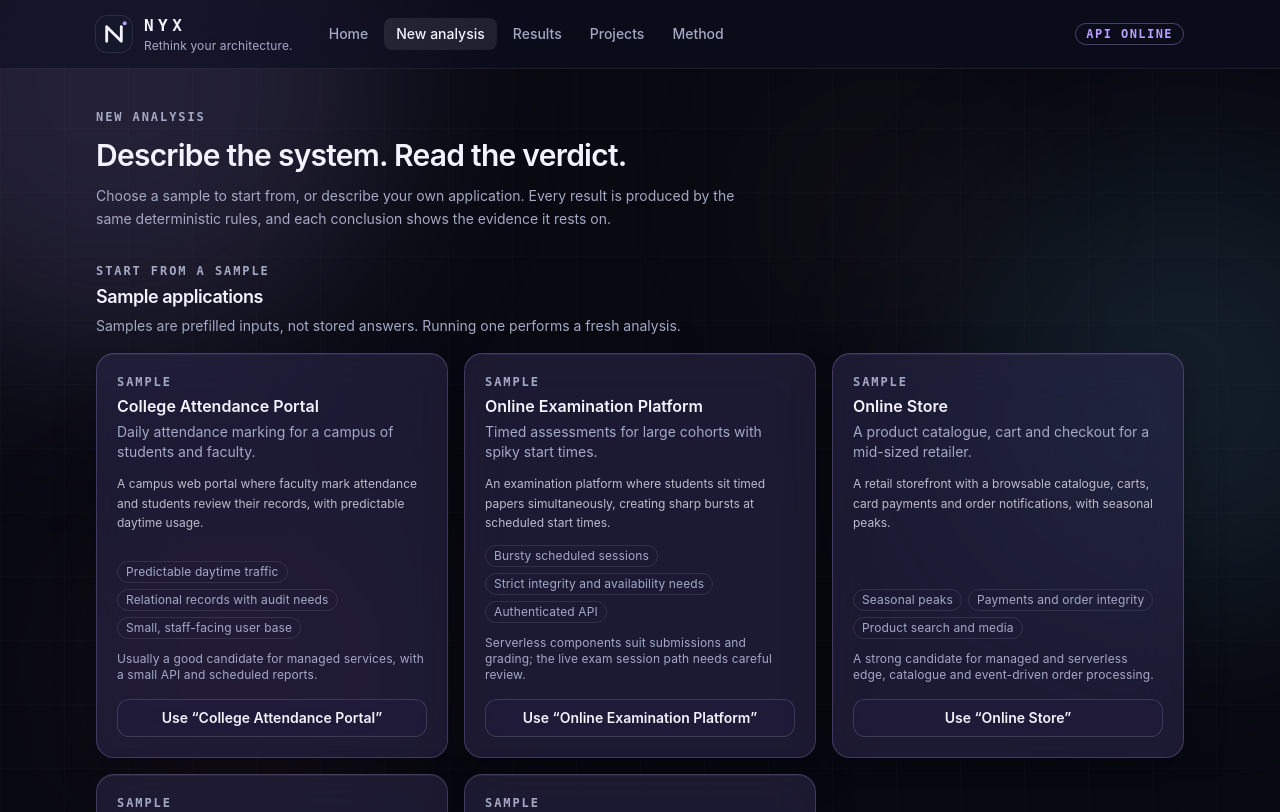
it: results › saves the analysis as a project and says so
Click the button "Use “Online Examination Platform”" at (640, 718), box [485, 699, 795, 737]
(page scrolled)
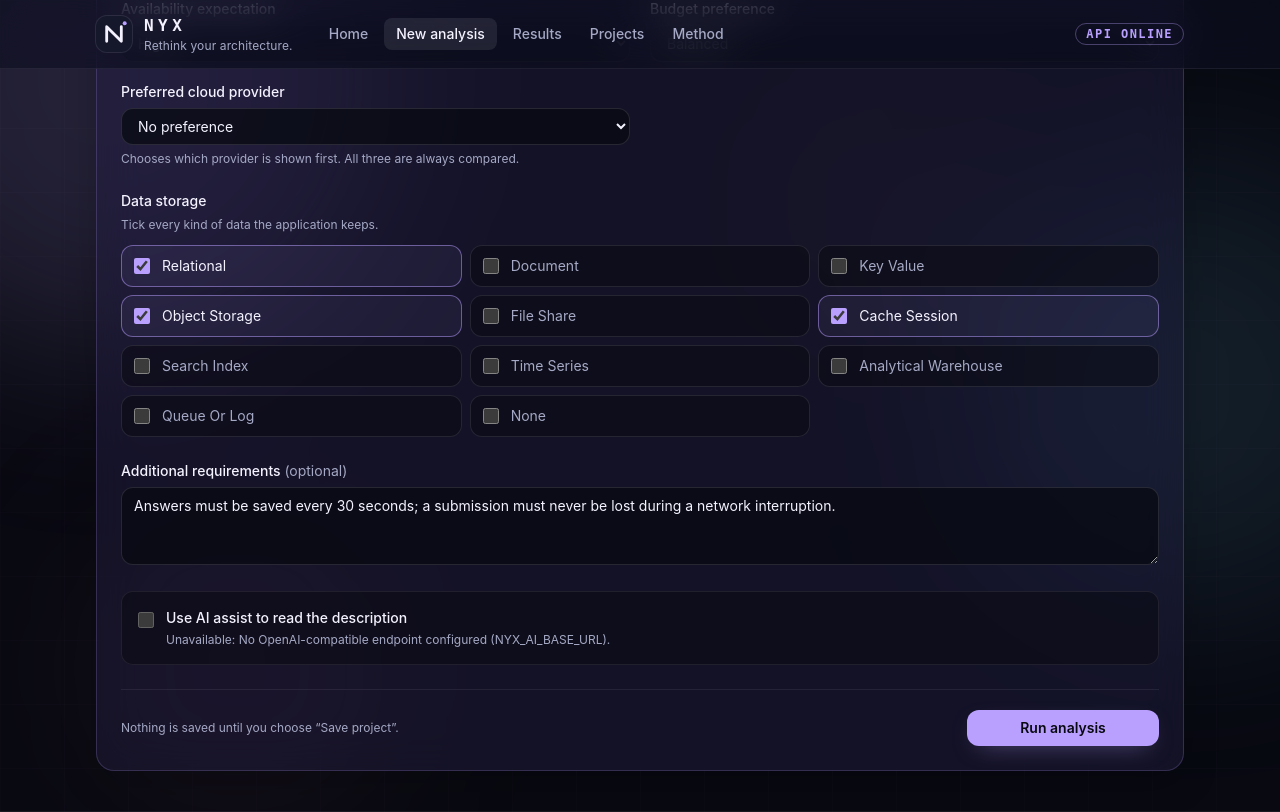
Click the button "Run analysis" at (1063, 728), box [967, 710, 1159, 746]
(page scrolled)
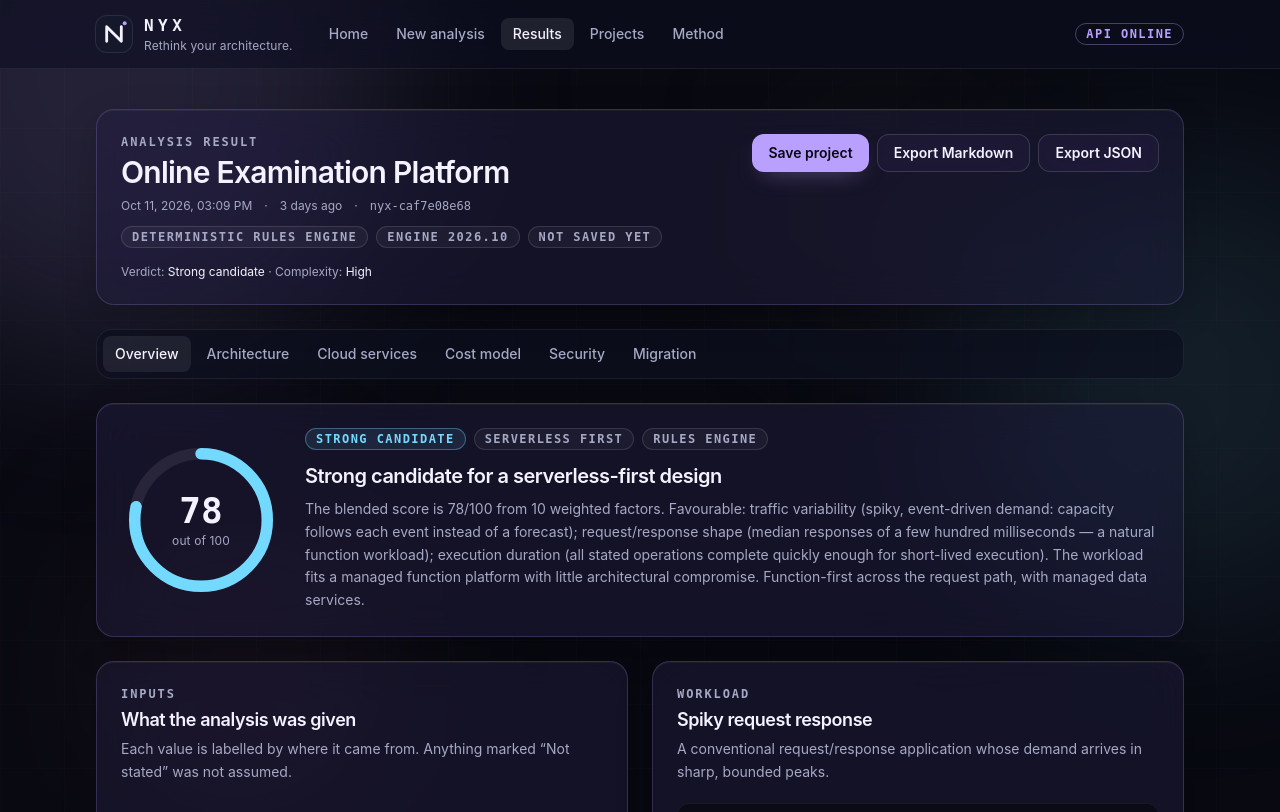
Check: the element named "result sections" is shown, box [96, 329, 1184, 379]
Click the button "Save project" at (810, 153), box [752, 134, 869, 172]
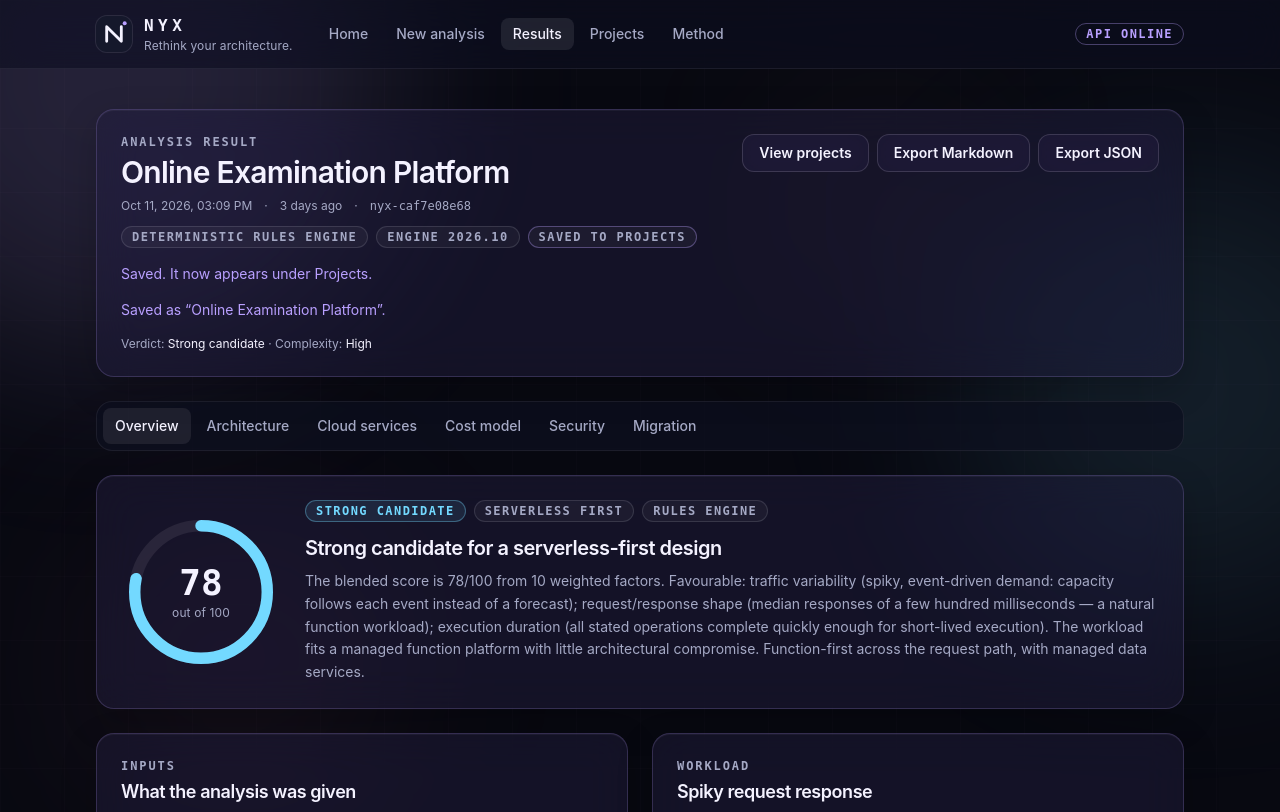
Check: the text "Saved as “Online Examination Platform”." is shown, box [121, 301, 386, 318]
Check: the text "Saved to projects" is shown, box [528, 226, 697, 248]
